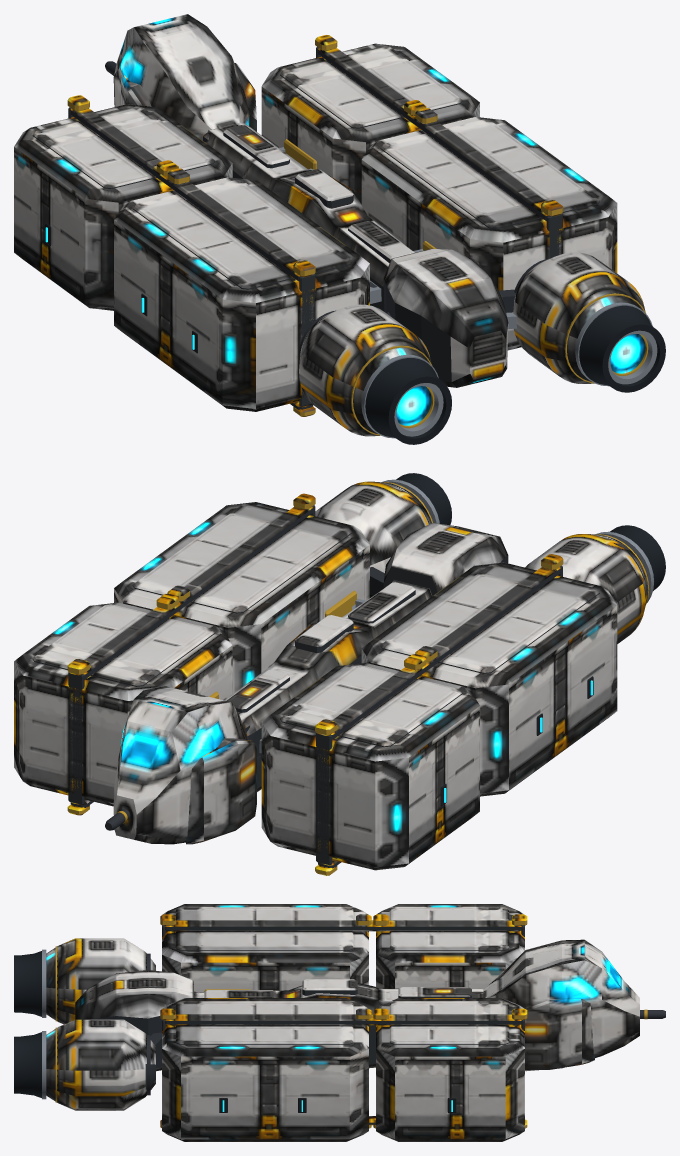
The model's file is small-freighter.glb.
3 views of the same model, one above another, from view 1: azimuth 30°, elevation 25°; view 2: azimuth 150°, elevation 25°; view 3: azimuth 270°, elevation 25° (orthographic). The views are drawn at different scales.
Parts seen in each view (by area): view 1: Reference artwork | titanium, brass, panels and canopy, Structural frames | gunmetal, Structural rails | dark alloy, Machined titanium edges, Ventral armor | dedicated bottom-view reference, Warm brass collars; view 2: Reference artwork | titanium, brass, panels and canopy, Structural frames | gunmetal, Structural rails | dark alloy, Warm brass collars, Ventral armor | dedicated bottom-view reference, Machined titanium edges; view 3: Reference artwork | titanium, brass, panels and canopy, Structural frames | gunmetal, Ventral armor | dedicated bottom-view reference, Structural rails | dark alloy, Warm brass collars, Machined titanium edges.
Part boxes in pixels (x1,y1,x2,y2): Reference artwork | titanium, brass, panels and canopy: (14, 14, 645, 425); Structural frames | gunmetal: (32, 47, 599, 409); Structural rails | dark alloy: (45, 223, 665, 444); Machined titanium edges: (279, 147, 657, 438); Ventral armor | dedicated bottom-view reference: (16, 48, 593, 436); Warm brass collars: (67, 40, 648, 435); Reference artwork | titanium, brass, panels and canopy: (14, 481, 648, 871); Structural frames | gunmetal: (32, 505, 599, 868); Structural rails | dark alloy: (396, 473, 665, 806); Warm brass collars: (67, 482, 649, 875); Ventral armor | dedicated bottom-view reference: (23, 507, 642, 875); Machined titanium edges: (259, 479, 653, 753); Reference artwork | titanium, brass, panels and canopy: (46, 904, 639, 1139); Structural frames | gunmetal: (91, 925, 665, 1124); Ventral armor | dedicated bottom-view reference: (46, 924, 639, 1141); Structural rails | dark alloy: (14, 951, 456, 1112); Warm brass collars: (55, 920, 647, 1128); Machined titanium edges: (42, 949, 46, 1099).
Bounding box in the file's own units: 8.3 × 3.3 × 15.06.
Materials: 7 (2 with a texture image).
